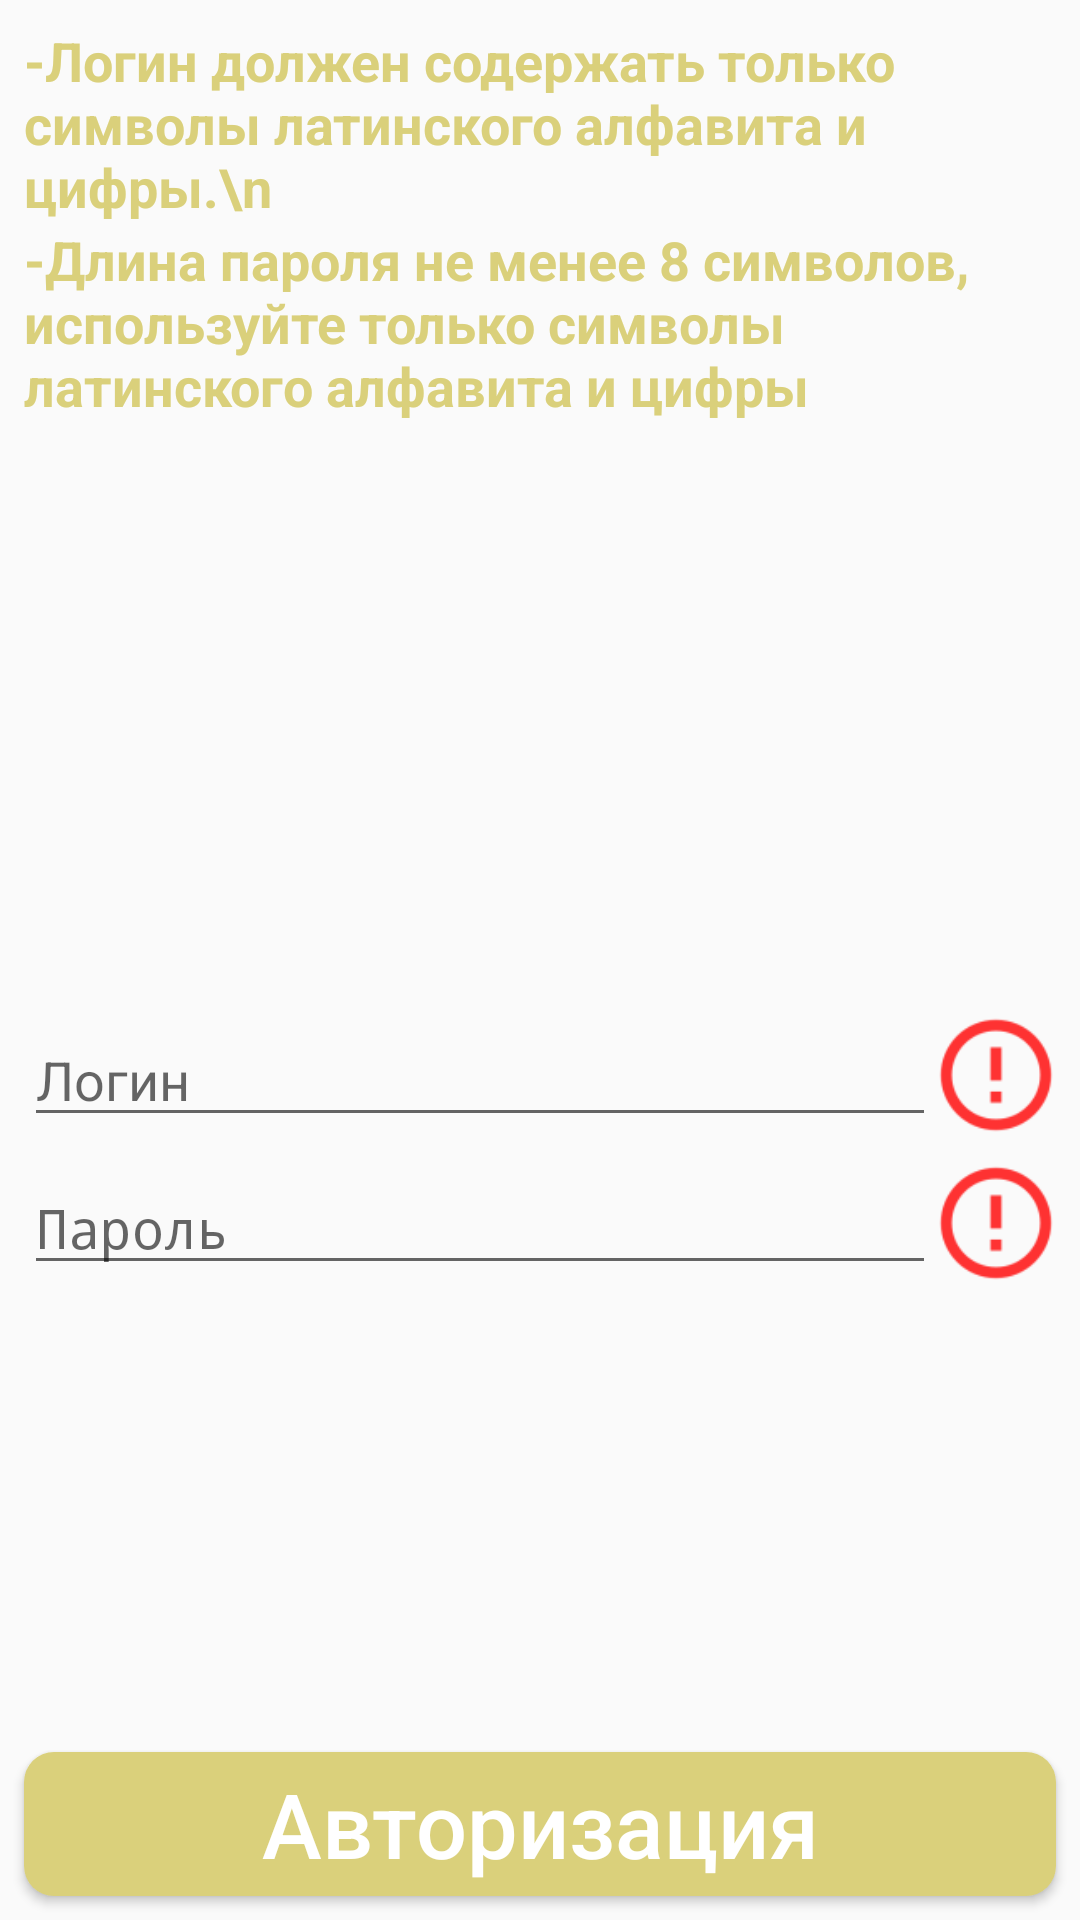

Screen size 1080 × 1920. Icon name, then its box in pixels as [x1=x1, y1=y1, x2=x2, y2=y2]:
accept false: [x1=940, y1=1019, x2=1052, y2=1131], [x1=940, y1=1167, x2=1052, y2=1279]
